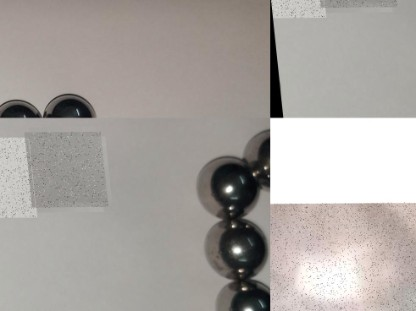ironball: (270, 202, 415, 311), (21, 132, 103, 208), (192, 155, 262, 218), (201, 217, 267, 280), (0, 137, 32, 218), (216, 275, 271, 309), (242, 125, 269, 188), (44, 93, 104, 118), (0, 97, 44, 119)
